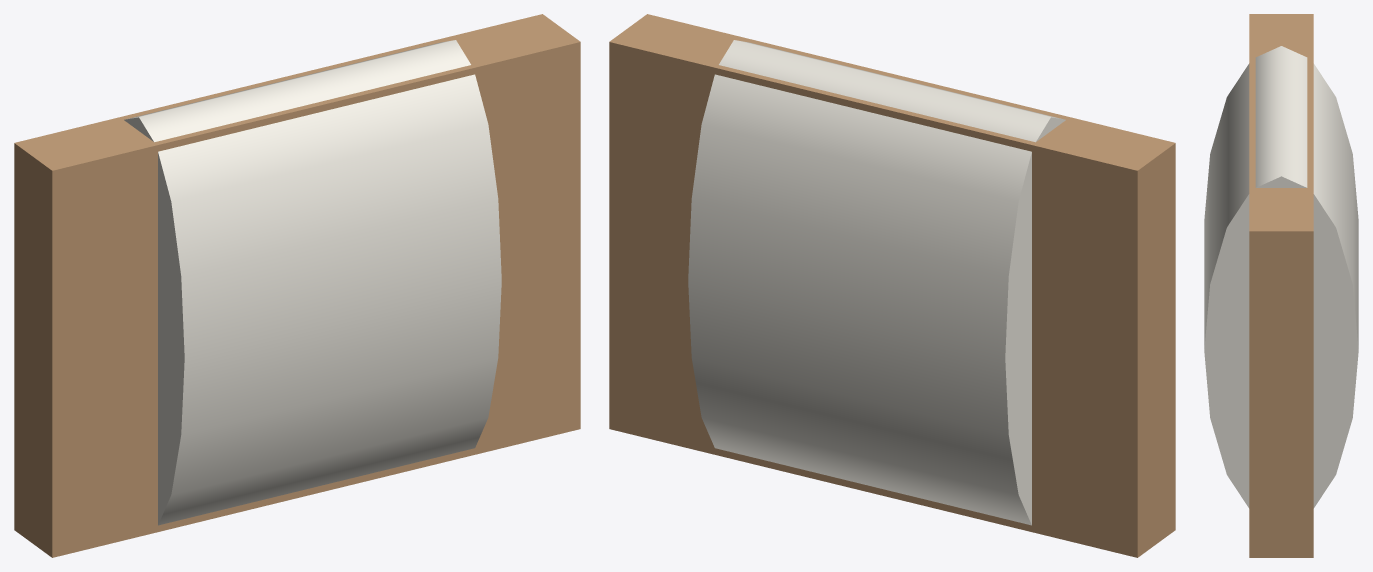
File: carretel-papelao.glb
3 renders of one model, left to right at view 1: azimuth 30°, elevation 25°; view 2: azimuth 150°, elevation 25°; view 3: azimuth 270°, elevation 25°, orthographic. The views are drawn at different scales.
Visible parts, largest first — view 1: carretel-papelao; view 2: carretel-papelao; view 3: carretel-papelao.
Part boxes in pixels (x1,y1,x2,y2): carretel-papelao: (14, 14, 580, 557); carretel-papelao: (609, 14, 1175, 557); carretel-papelao: (1204, 14, 1358, 557).
Bounding box in the file's own units: 0.2 × 0.15 × 0.06.
